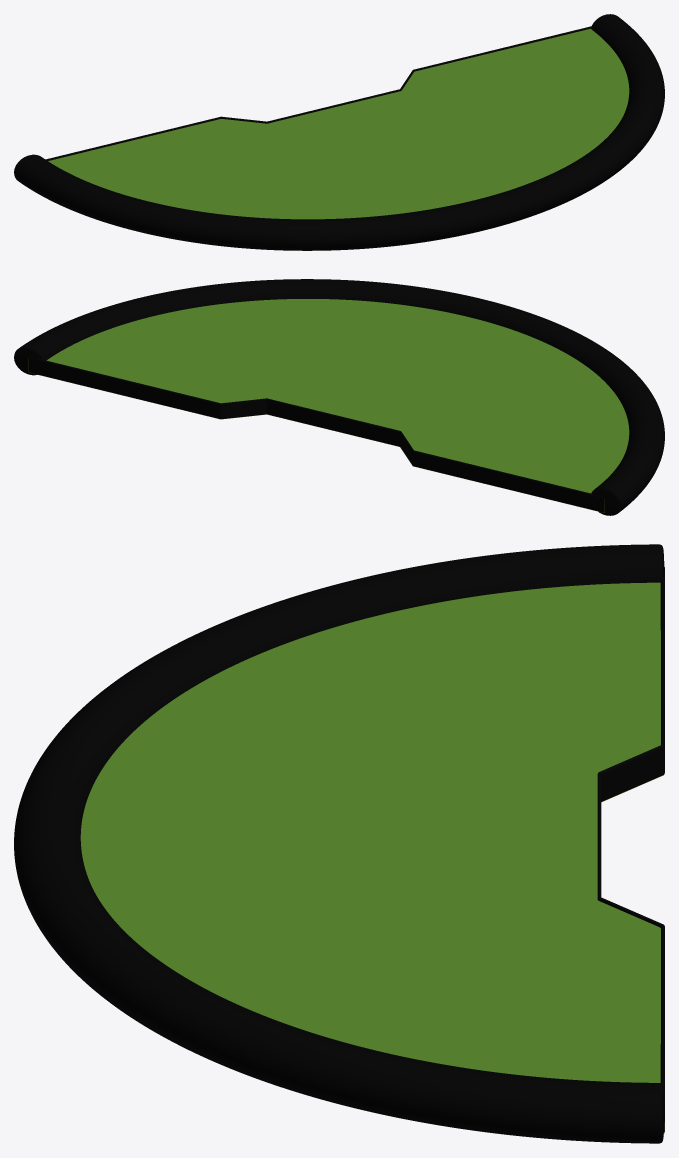
The model's file is floatingBlackjackTable.glb.
3 renders of one model, top to bottom at view 1: azimuth 30°, elevation 25°; view 2: azimuth 150°, elevation 25°; view 3: azimuth 270°, elevation 25°, orthographic. The views are drawn at different scales.
Visible parts, largest first — view 1: Table, ArmRest, DealersBand; view 2: Table, ArmRest, DealersBand; view 3: Table, ArmRest, DealersBand.
Boxes of the visible parts, x1,y1,x2,y2 form: Table: (48,28,629,219); ArmRest: (14,14,664,250); DealersBand: (45,26,591,160); Table: (28,299,629,512); ArmRest: (14,279,664,515); DealersBand: (29,357,604,512); Table: (80,582,664,1133); ArmRest: (14,544,664,1143); DealersBand: (597,567,664,1132).
Size of the model in its own units: 2.37 by 0.1028 by 1.15.
